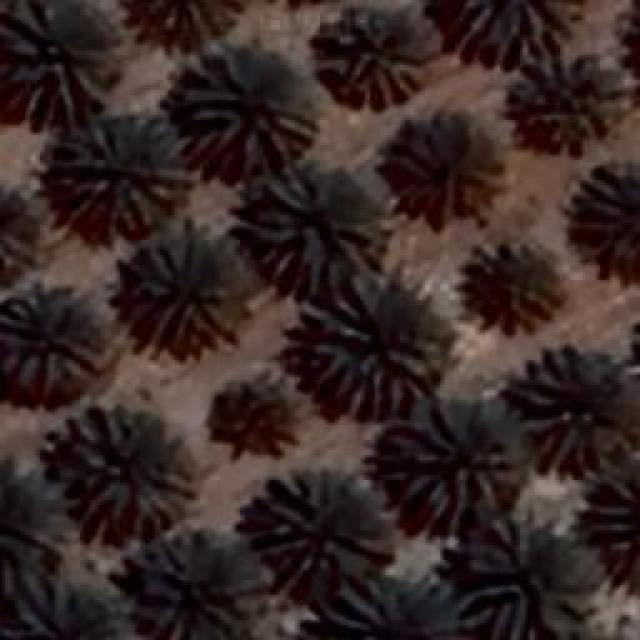PalmTree: (80, 78, 388, 601), (168, 39, 320, 172), (240, 160, 382, 295), (312, 282, 446, 418), (57, 405, 195, 535), (50, 110, 188, 240), (460, 512, 602, 638), (245, 465, 393, 580), (380, 400, 512, 525), (125, 220, 247, 355), (375, 105, 503, 230), (514, 340, 628, 475), (0, 0, 110, 125), (312, 0, 430, 110), (510, 49, 622, 152), (0, 280, 102, 390), (457, 238, 565, 338), (137, 534, 235, 638), (568, 160, 638, 285), (458, 0, 580, 65), (20, 103, 80, 229), (212, 376, 306, 456), (0, 470, 62, 590), (588, 462, 640, 584), (589, 462, 640, 586), (10, 587, 120, 640), (142, 0, 239, 32), (617, 0, 640, 104), (623, 0, 640, 100), (628, 0, 640, 98)
